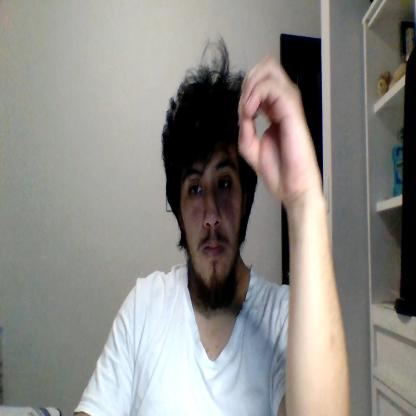O: (238, 57, 310, 200)
